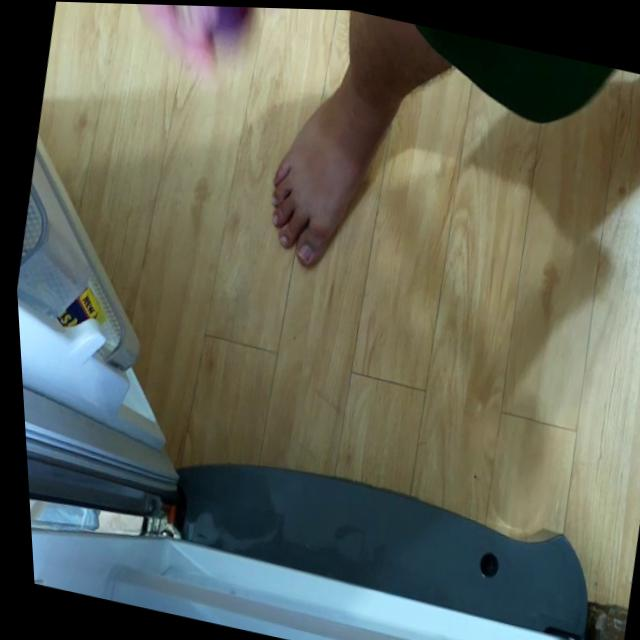onion: (184, 4, 258, 50)
